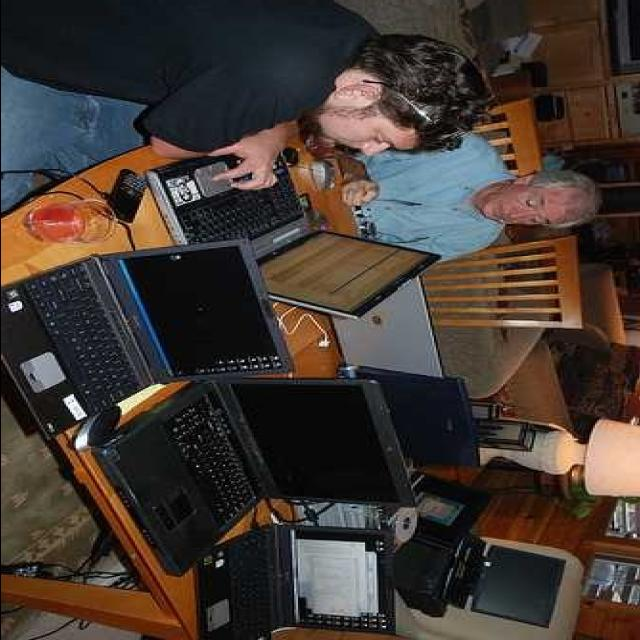laptop: (0, 151, 424, 511), (32, 230, 284, 374), (214, 523, 382, 634), (372, 357, 494, 471)
